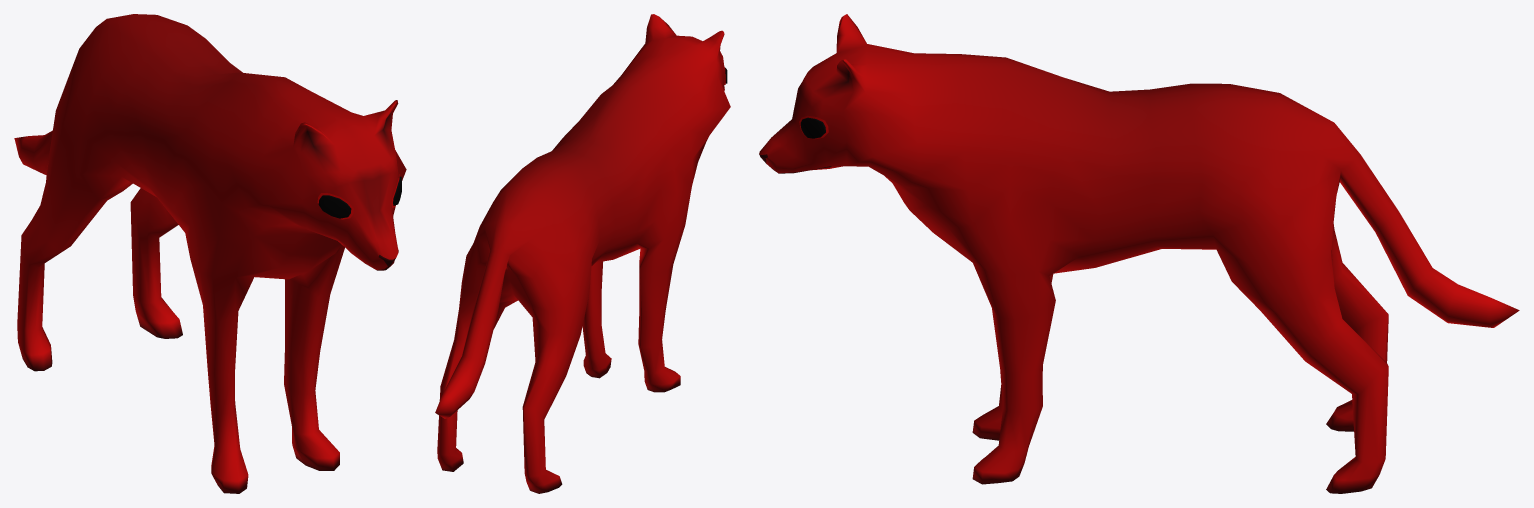
Rendered from Animals_ArcticWolf.fbx.
3 views of the same model, side by side, from view 1: azimuth 30°, elevation 25°; view 2: azimuth 150°, elevation 25°; view 3: azimuth 270°, elevation 25° (orthographic). The views are drawn at different scales.
Parts seen in each view (by area): view 1: base; view 2: base; view 3: base.
Part boxes in pixels (x1,y1,x2,y2): base: (14,14,406,493); base: (435,14,730,493); base: (759,14,1519,493).
Size of the model in its own units: 35.56 by 93.95 by 154.
